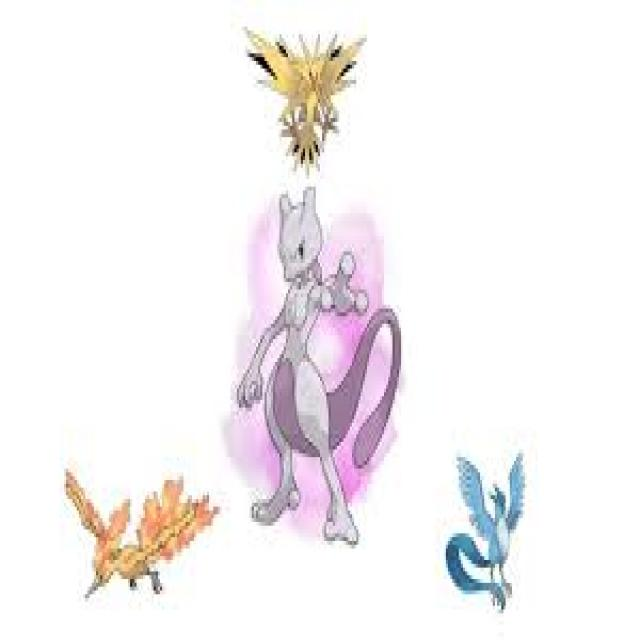Articuno: (466, 478, 524, 603)
Mewtwo: (254, 191, 358, 518)
Moltres: (71, 492, 179, 596)
Zapdos: (273, 25, 345, 170)
